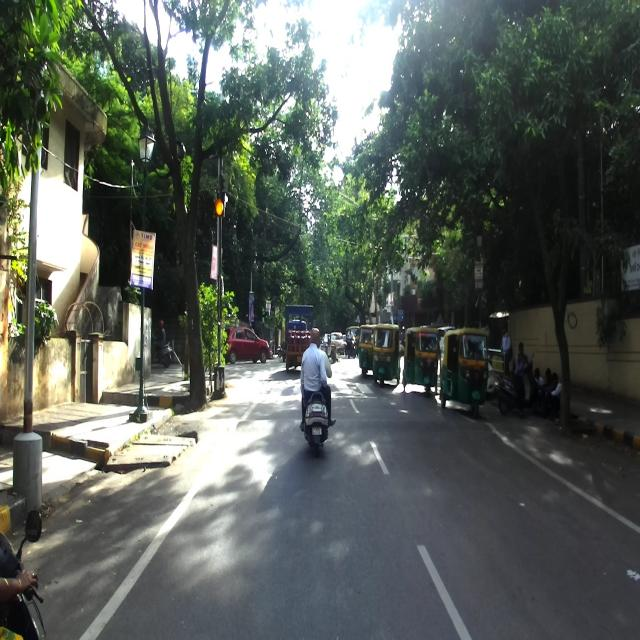autorickshaw: (439, 326, 488, 417), (402, 324, 437, 396), (372, 321, 399, 386)
car: (222, 326, 270, 364)
scooter: (302, 346, 331, 456), (495, 351, 539, 416)
